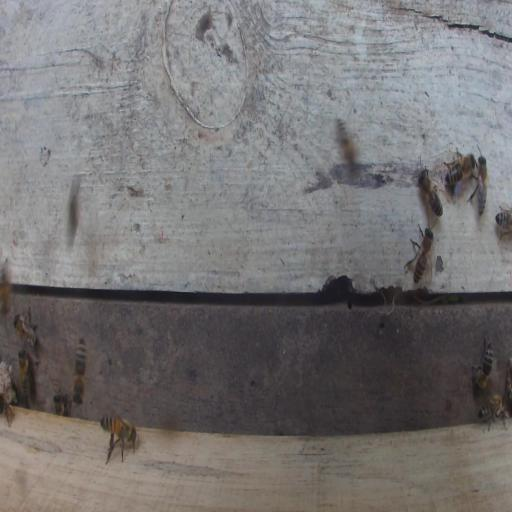bee: (100, 413, 139, 465), (404, 222, 435, 283), (442, 146, 476, 193), (417, 159, 443, 219), (335, 118, 360, 172), (468, 154, 489, 216), (471, 335, 493, 391), (478, 393, 509, 432), (13, 309, 38, 348), (73, 338, 87, 402), (18, 348, 30, 405), (1, 260, 13, 316), (495, 203, 512, 235), (1, 390, 16, 426), (53, 392, 71, 416)
